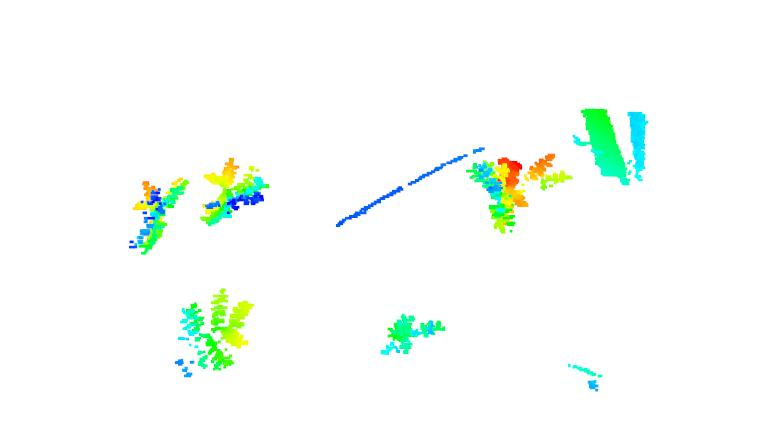chickpea: (465, 149, 575, 234), (169, 287, 258, 379), (125, 174, 192, 257), (197, 157, 270, 229), (378, 311, 449, 361)
